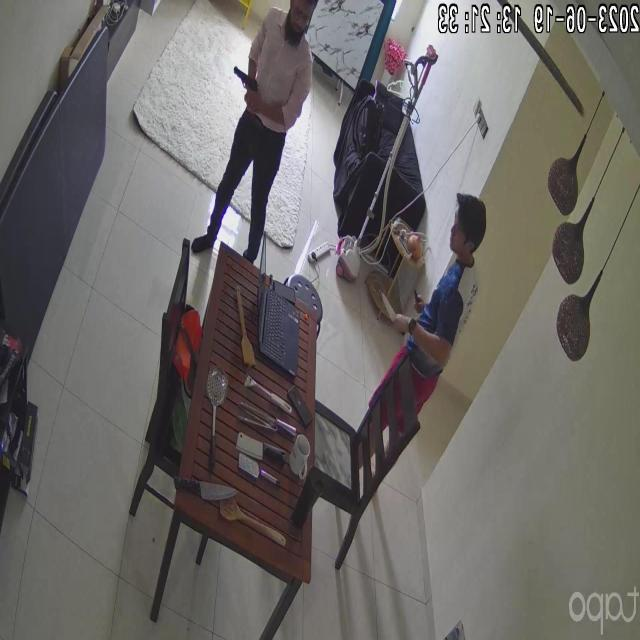Gun: (226, 64, 266, 104)
Knife: (378, 292, 402, 328)
